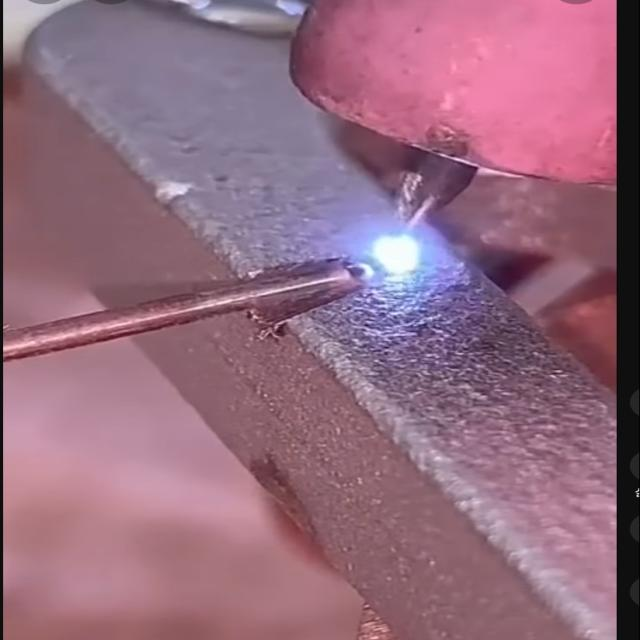welding: (367, 230, 430, 278)
